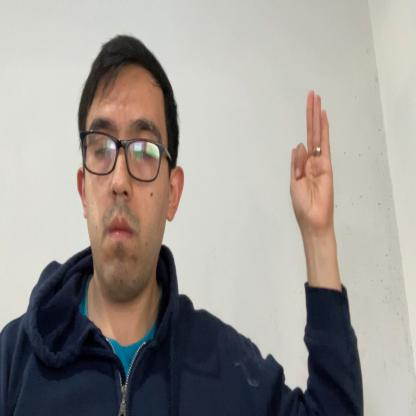F: (289, 88, 334, 233)
